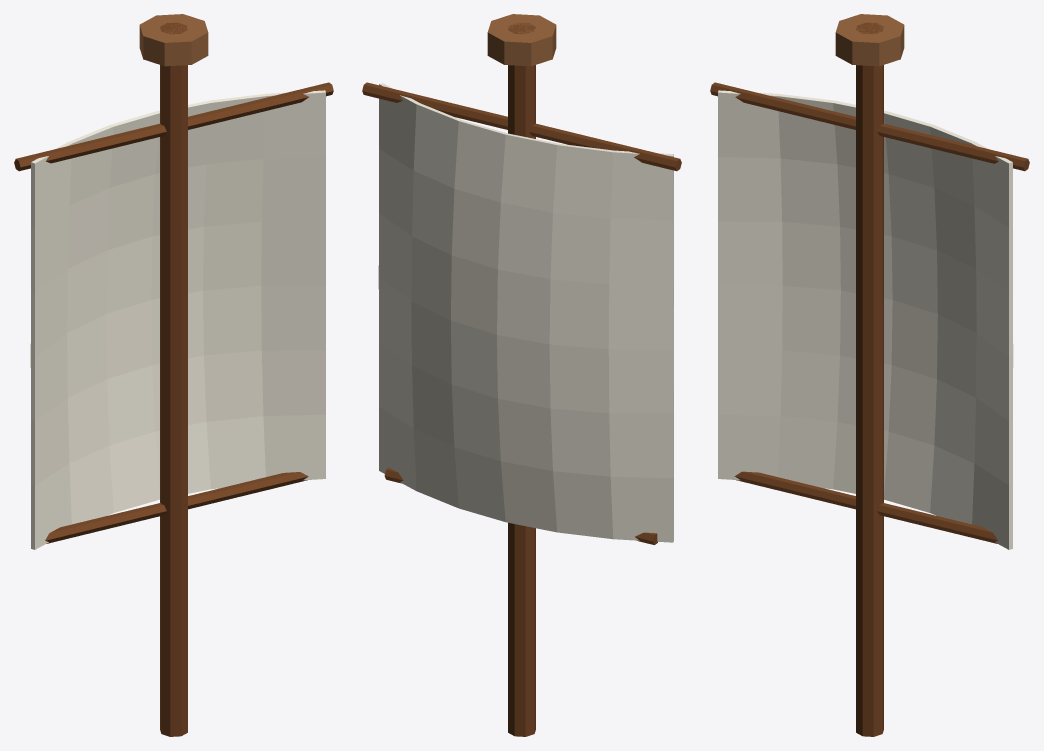
The model's file is LargeMast.fbx.
The picture shows the model from 3 angles, left to right: view 1: azimuth 30°, elevation 25°; view 2: azimuth 150°, elevation 25°; view 3: azimuth 330°, elevation 25°; orthographic projection.
Parts seen in each view (by area): view 1: LargeMast; view 2: LargeMast; view 3: LargeMast.
Part boxes in pixels (x1,y1,x2,y2): LargeMast: [14, 14, 333, 736]; LargeMast: [362, 14, 681, 736]; LargeMast: [710, 14, 1029, 736].
Bounding box in the file's own units: 11.2 × 24 × 2.65.
Materials: 1 (1 with a texture image).
